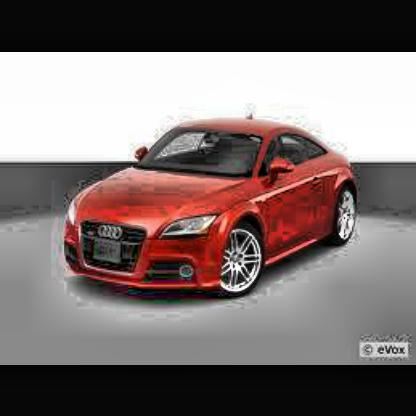Audi TT RS Coupe 2012: (66, 113, 361, 300)
